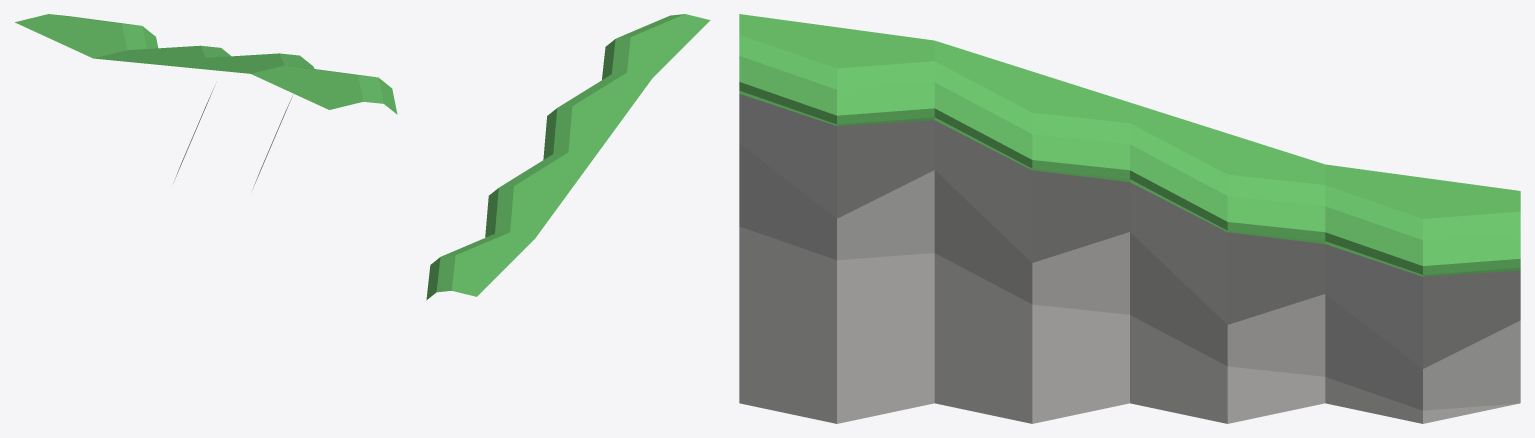
File: Cliff_Terrain_Hill_Gentle_Top.glb
3 views of the same model, side by side, from view 1: azimuth 30°, elevation 25°; view 2: azimuth 150°, elevation 25°; view 3: azimuth 270°, elevation 25° (orthographic). The views are drawn at different scales.
Parts seen in each view (by area): view 1: Cliff_Terrain_Hill_Gentle_Top; view 2: Cliff_Terrain_Hill_Gentle_Top; view 3: Cliff_Terrain_Hill_Gentle_Top.
Part boxes in pixels (x1,y1,x2,y2): Cliff_Terrain_Hill_Gentle_Top: (15,14,397,189); Cliff_Terrain_Hill_Gentle_Top: (426,14,710,300); Cliff_Terrain_Hill_Gentle_Top: (739,14,1520,423).
Bounding box in the file's own units: 0.75 × 2.2 × 4.
